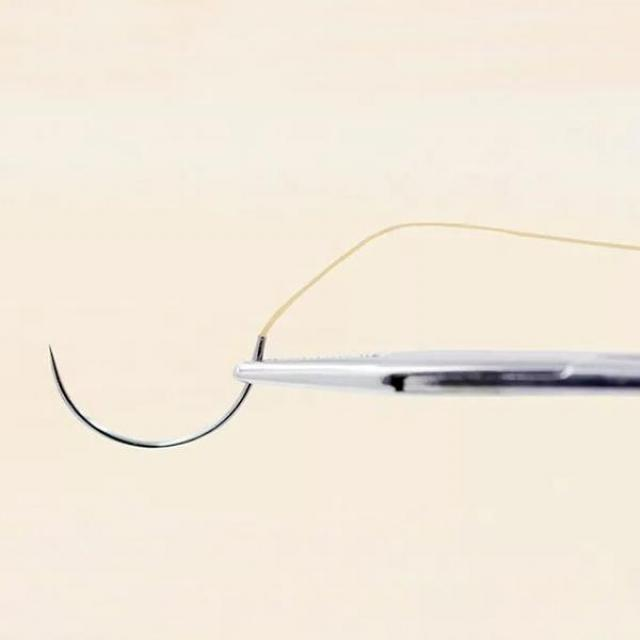Castroviejo: (224, 342, 640, 404)
Needle: (42, 328, 268, 451)
